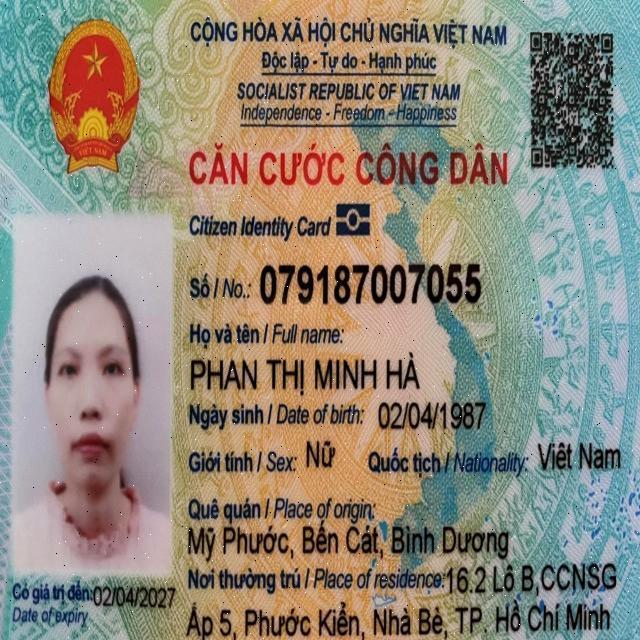current_place: (186, 598, 614, 640), (448, 563, 620, 595)
dob: (379, 396, 488, 433)
expire_date: (92, 579, 177, 613)
gender: (305, 434, 338, 470)
id: (259, 259, 484, 306)
name: (188, 348, 424, 396)
nationality: (535, 438, 625, 473)
origin_place: (186, 518, 511, 564)
